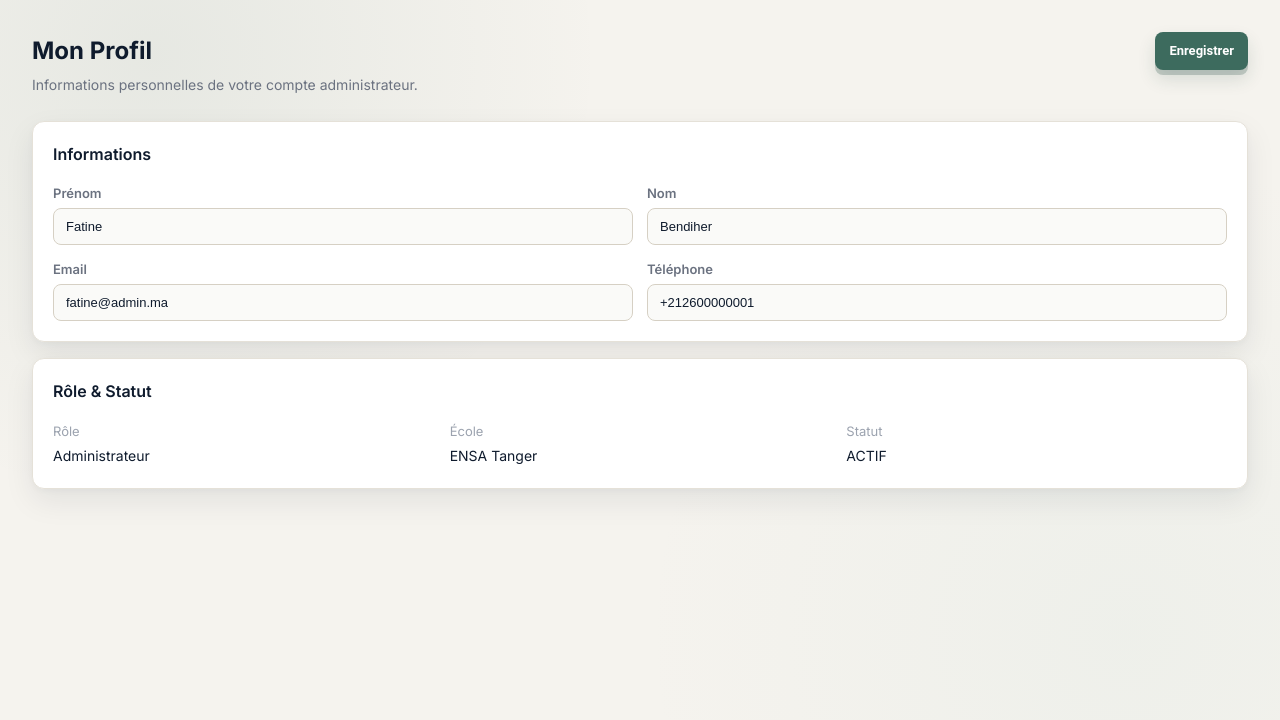
Test case: AdminProfile.vue — Tests d'Intégration › 21 — pendant la sauvegarde, le bouton affiche "Enregistrement…"
Click the button with class "btn--primary" at (1202, 51), box [1155,32,1248,70]
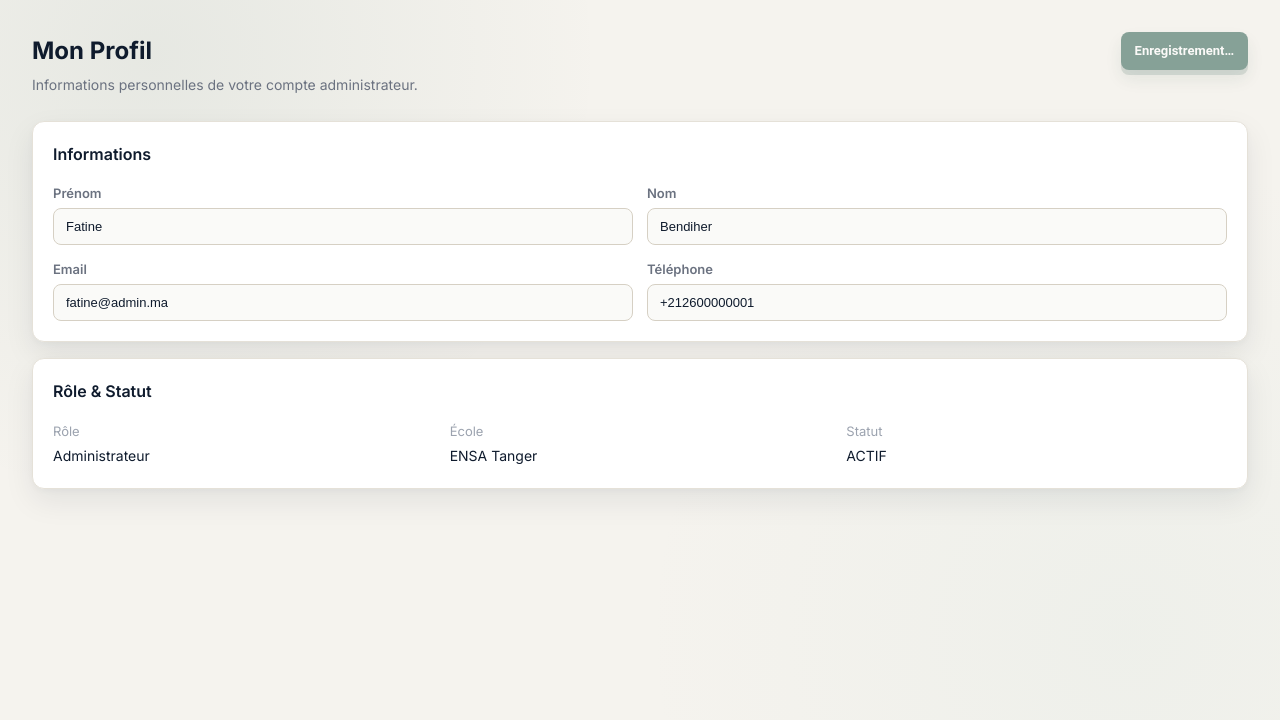
Now the button with class "btn--primary" reads "Enregistrement…", box [1121,32,1248,70]
